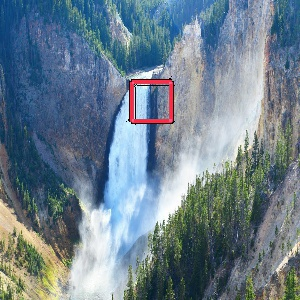square: (129, 78, 174, 124)
